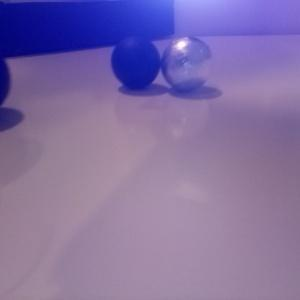alive_ball: (161, 36, 213, 91)
dead_ball: (111, 37, 162, 89), (1, 53, 12, 113)
